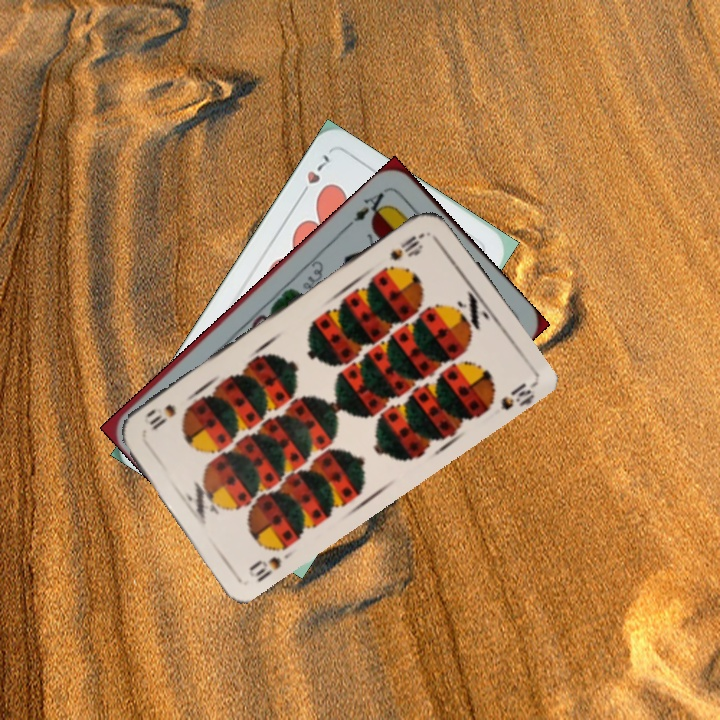EA: (343, 184, 393, 230)
H7: (294, 150, 333, 202)
S10: (385, 229, 428, 264), (245, 552, 284, 585)
